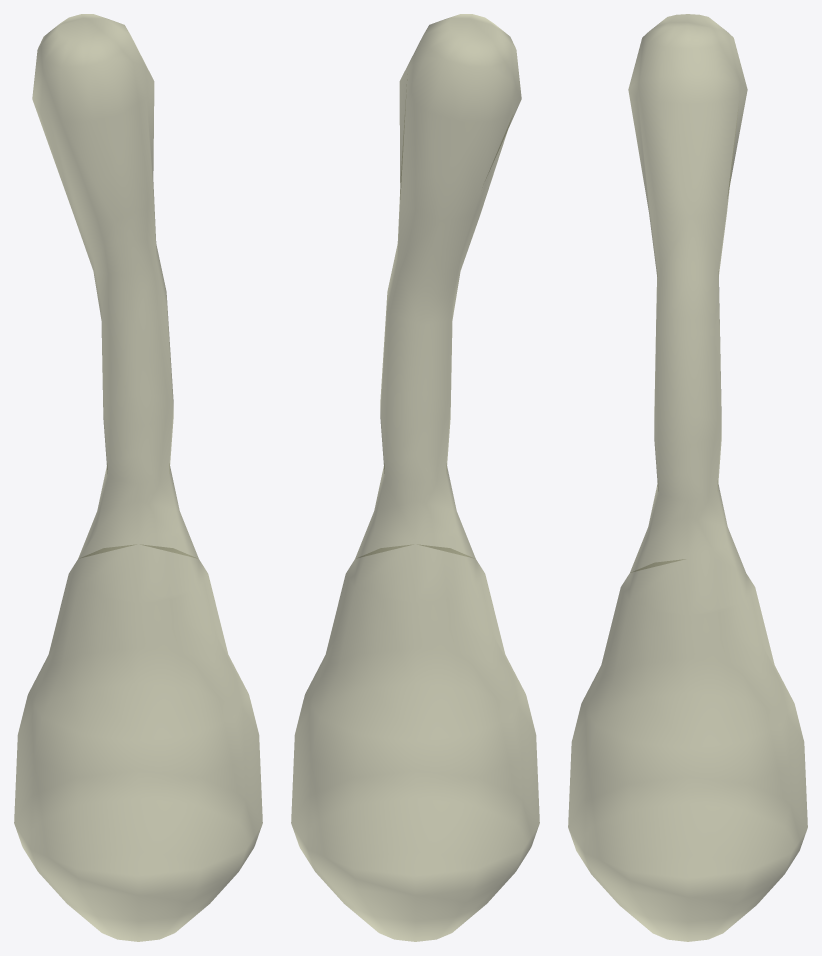
File: gum.fbx
3 views of the same model, side by side, from view 1: azimuth 30°, elevation 25°; view 2: azimuth 150°, elevation 25°; view 3: azimuth 270°, elevation 25° (orthographic). The views are drawn at different scales.
Visible parts, largest first — view 1: revolvedSurface1; view 2: revolvedSurface1; view 3: revolvedSurface1.
Part boxes in pixels (x1,y1,x2,y2): revolvedSurface1: [14, 14, 262, 941]; revolvedSurface1: [291, 14, 539, 941]; revolvedSurface1: [568, 14, 807, 941].
Bounding box in the file's own units: 8.11 × 32.92 × 8.11.
